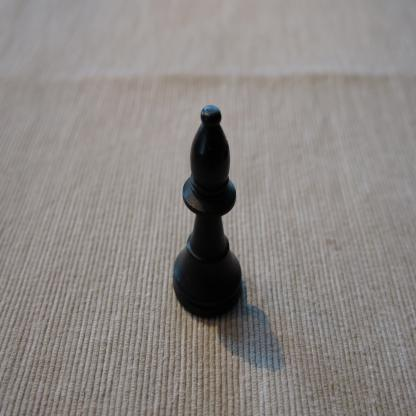black-bishop: (172, 104, 243, 321)
